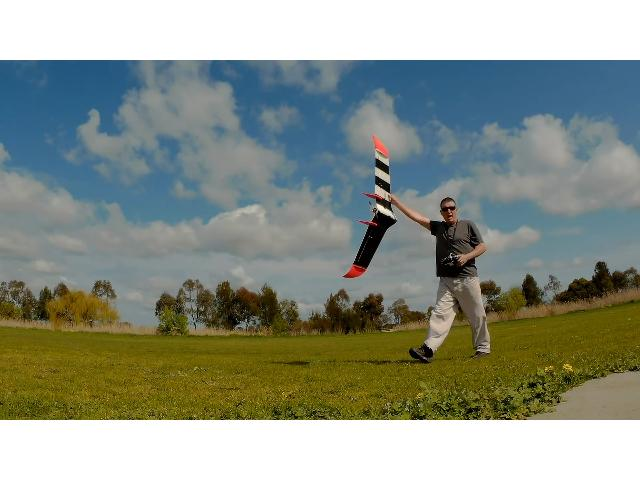Anti-Drone: (332, 124, 412, 284)
